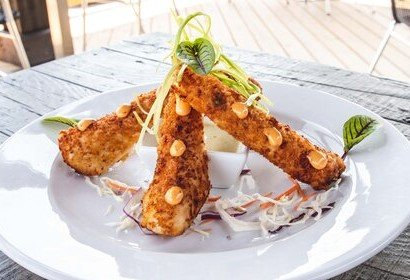soup: (147, 15, 347, 201), (139, 82, 211, 237)
